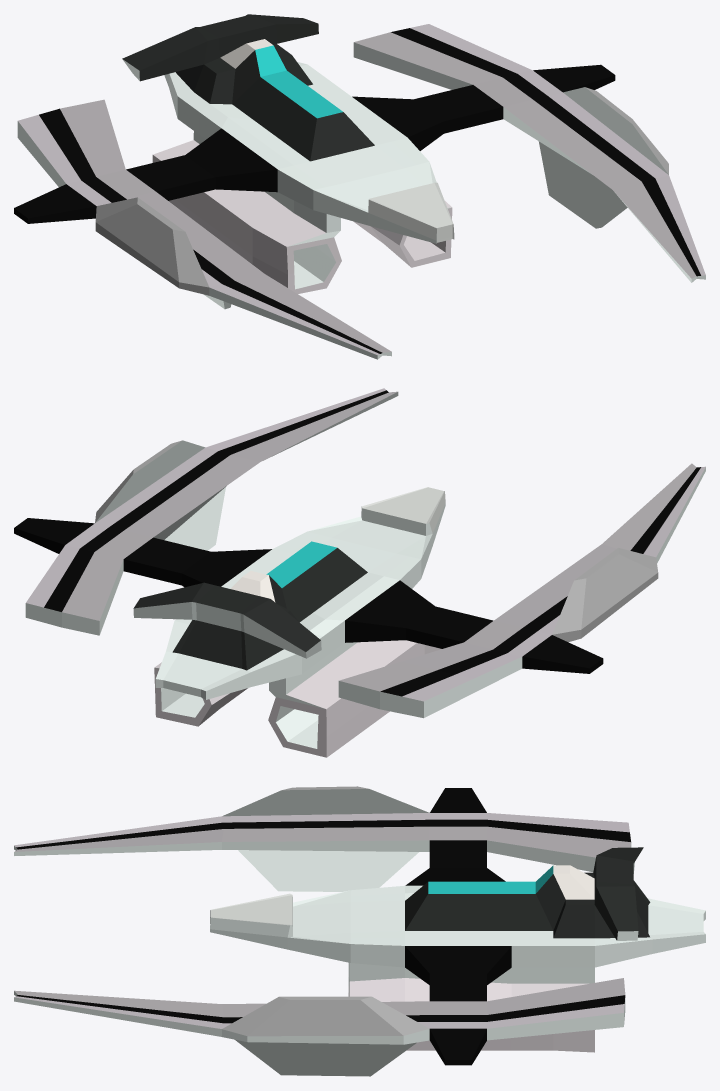
3 renders of one model, top to bottom at view 1: azimuth 30°, elevation 25°; view 2: azimuth 150°, elevation 25°; view 3: azimuth 270°, elevation 25°, orthographic. The views are drawn at different scales.
Visible parts, largest first — view 1: Cube; view 2: Cube; view 3: Cube.
Part boxes in pixels (x1,y1,x2,y2): Cube: (14, 14, 705, 359); Cube: (14, 388, 705, 757); Cube: (14, 786, 705, 1076).
Bounding box in the file's own units: 14.82 × 3.66 × 15.94.
